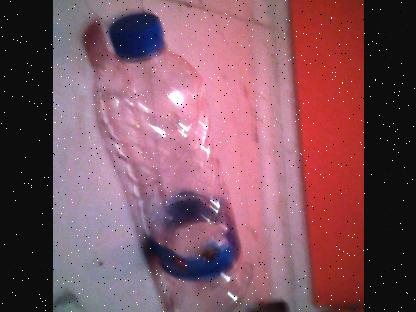Plastic Bottle: (96, 12, 252, 312)
